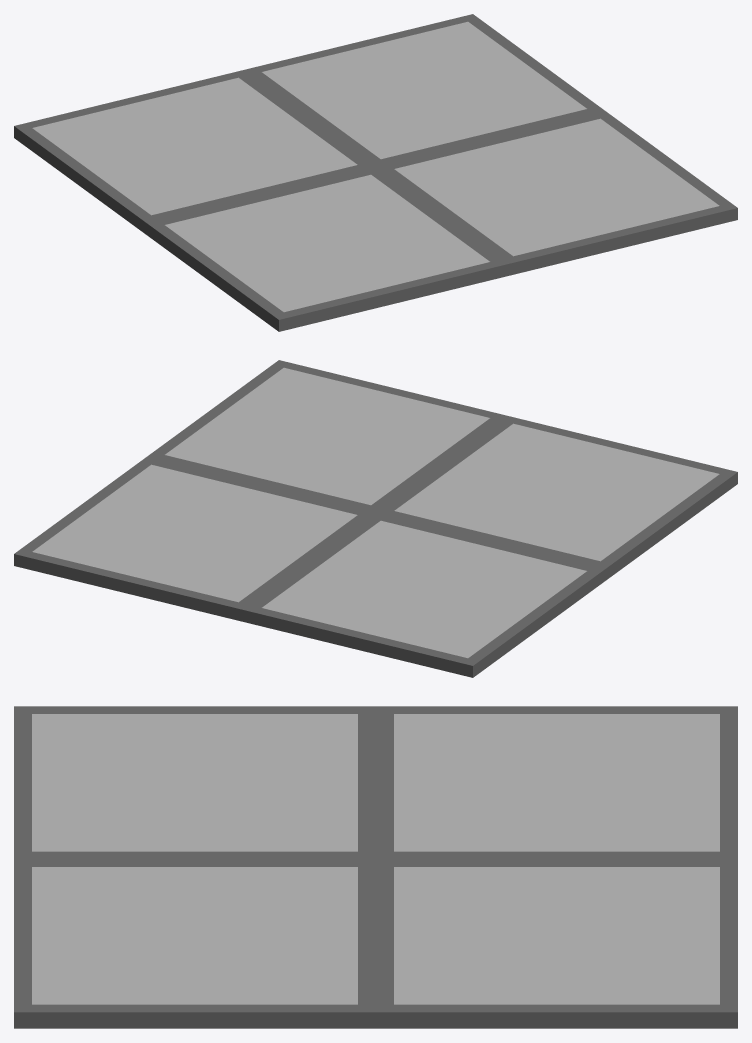
Rendered from ceiling_01_S.glb.
The picture shows the model from 3 angles, top to bottom: view 1: azimuth 30°, elevation 25°; view 2: azimuth 150°, elevation 25°; view 3: azimuth 270°, elevation 25°; orthographic projection. The views are drawn at different scales.
Visible parts, largest first — view 1: Untitled; view 2: Untitled; view 3: Untitled.
Part boxes in pixels (x1,y1,x2,y2): Untitled: (14,14,737,331); Untitled: (14,360,737,677); Untitled: (14,706,737,1028).
Bounding box in the file's own units: 1.2 × 0.03 × 1.2.
1 material, 1 textured.
